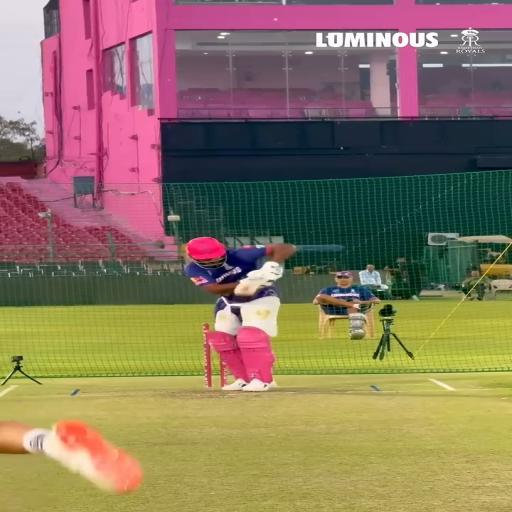Cricket bat: (233, 278, 262, 296)
